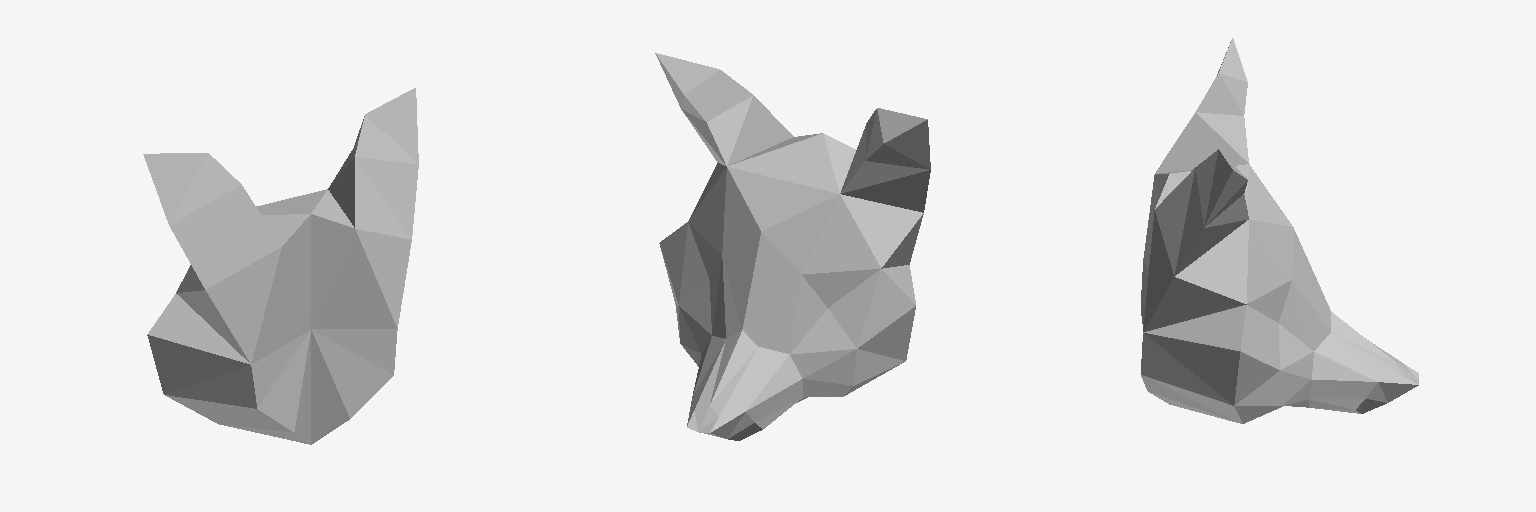
The model's file is fox.obj.
3 views of the same model, side by side, from view 1: azimuth 30°, elevation 25°; view 2: azimuth 150°, elevation 25°; view 3: azimuth 270°, elevation 25° (orthographic).
Visible parts, largest first — view 1: Cube; view 2: Cube; view 3: Cube.
Boxes of the visible parts, box(x1,y1,x2,y2) form: Cube: box(143, 88, 418, 444); Cube: box(655, 53, 930, 440); Cube: box(1141, 38, 1418, 423).
Bounding box in the file's own units: 1.34 × 1.43 × 1.19.